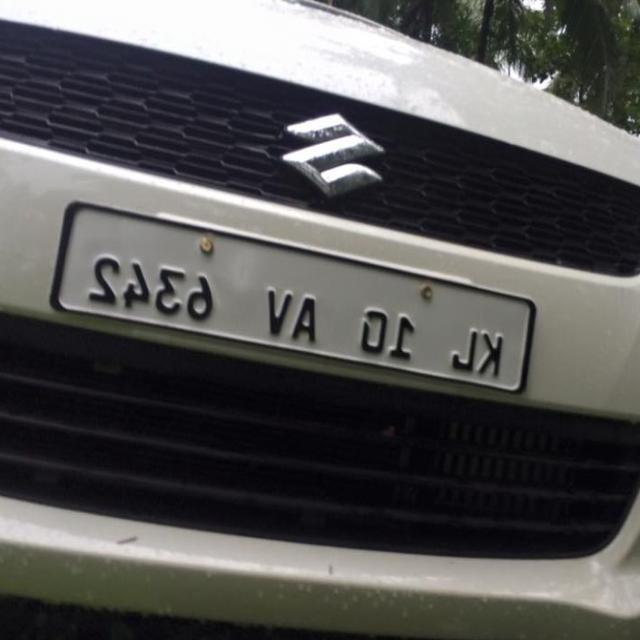number-plate: (52, 214, 551, 394)
